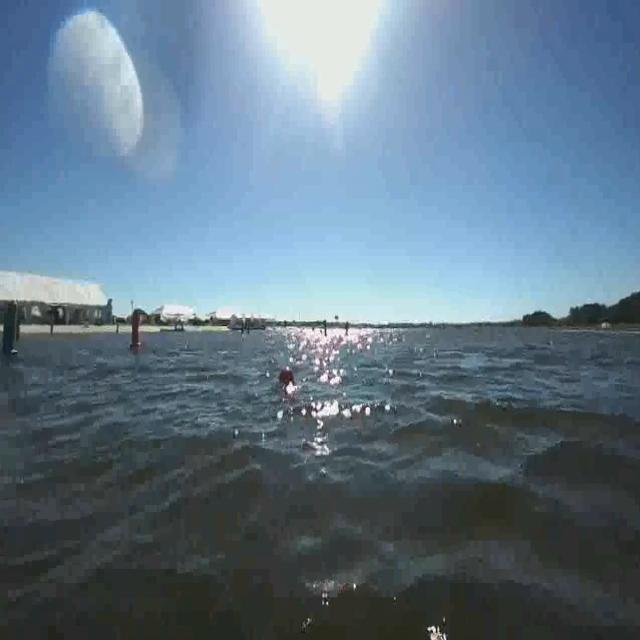green-column-buoy: (1, 312, 18, 358)
red-buoy: (279, 364, 295, 388)
red-column-buoy: (129, 308, 145, 352)
